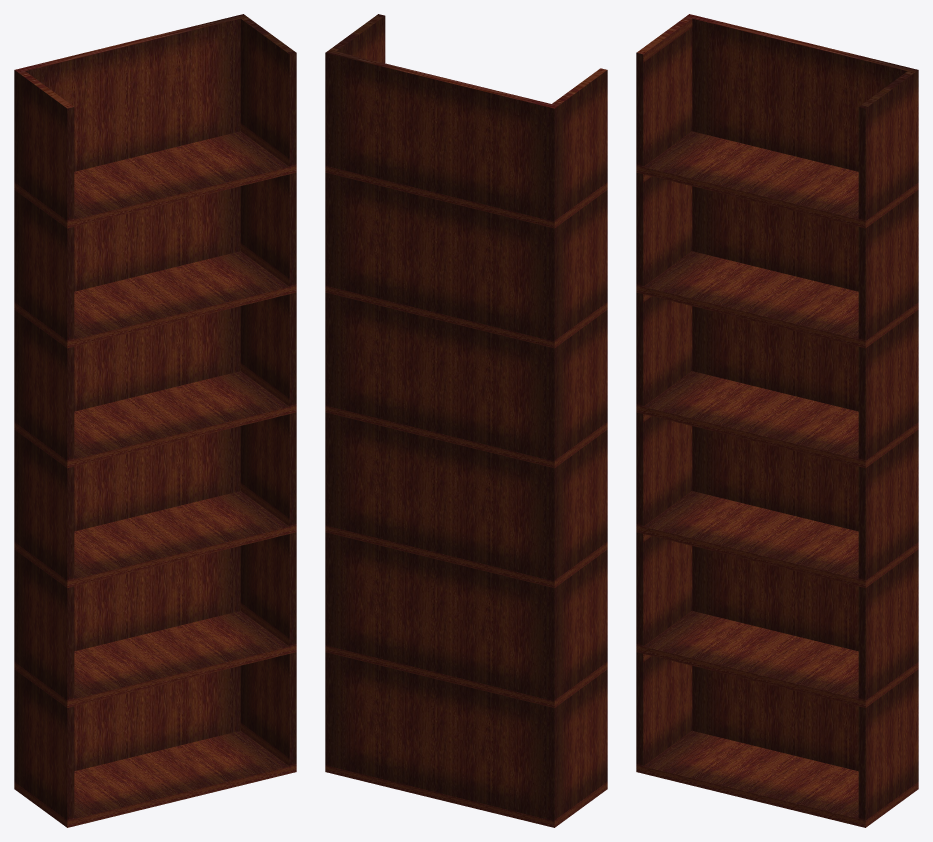
Rendered from BookCase.fbx.
3 renders of one model, left to right at view 1: azimuth 30°, elevation 25°; view 2: azimuth 150°, elevation 25°; view 3: azimuth 330°, elevation 25°, orthographic.
Visible parts, largest first — view 1: BookCase_0.4x1x3; view 2: BookCase_0.4x1x3; view 3: BookCase_0.4x1x3.
Boxes of the visible parts, x1=… form: BookCase_0.4x1x3: x1=14, y1=14, x2=296, y2=827; BookCase_0.4x1x3: x1=325, y1=14, x2=607, y2=827; BookCase_0.4x1x3: x1=636, y1=14, x2=918, y2=827.
Bounding box in the file's own units: 100 × 300 × 40.
